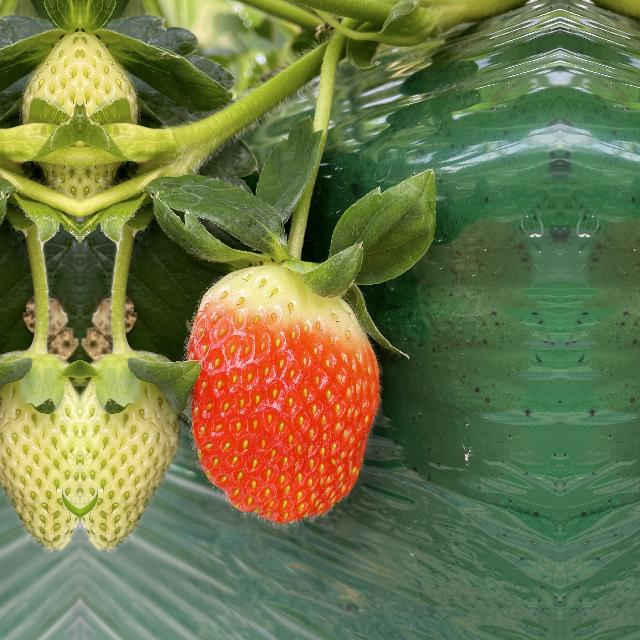Health_100: (182, 256, 384, 526)
Health_25: (84, 348, 178, 558), (0, 348, 76, 557)
